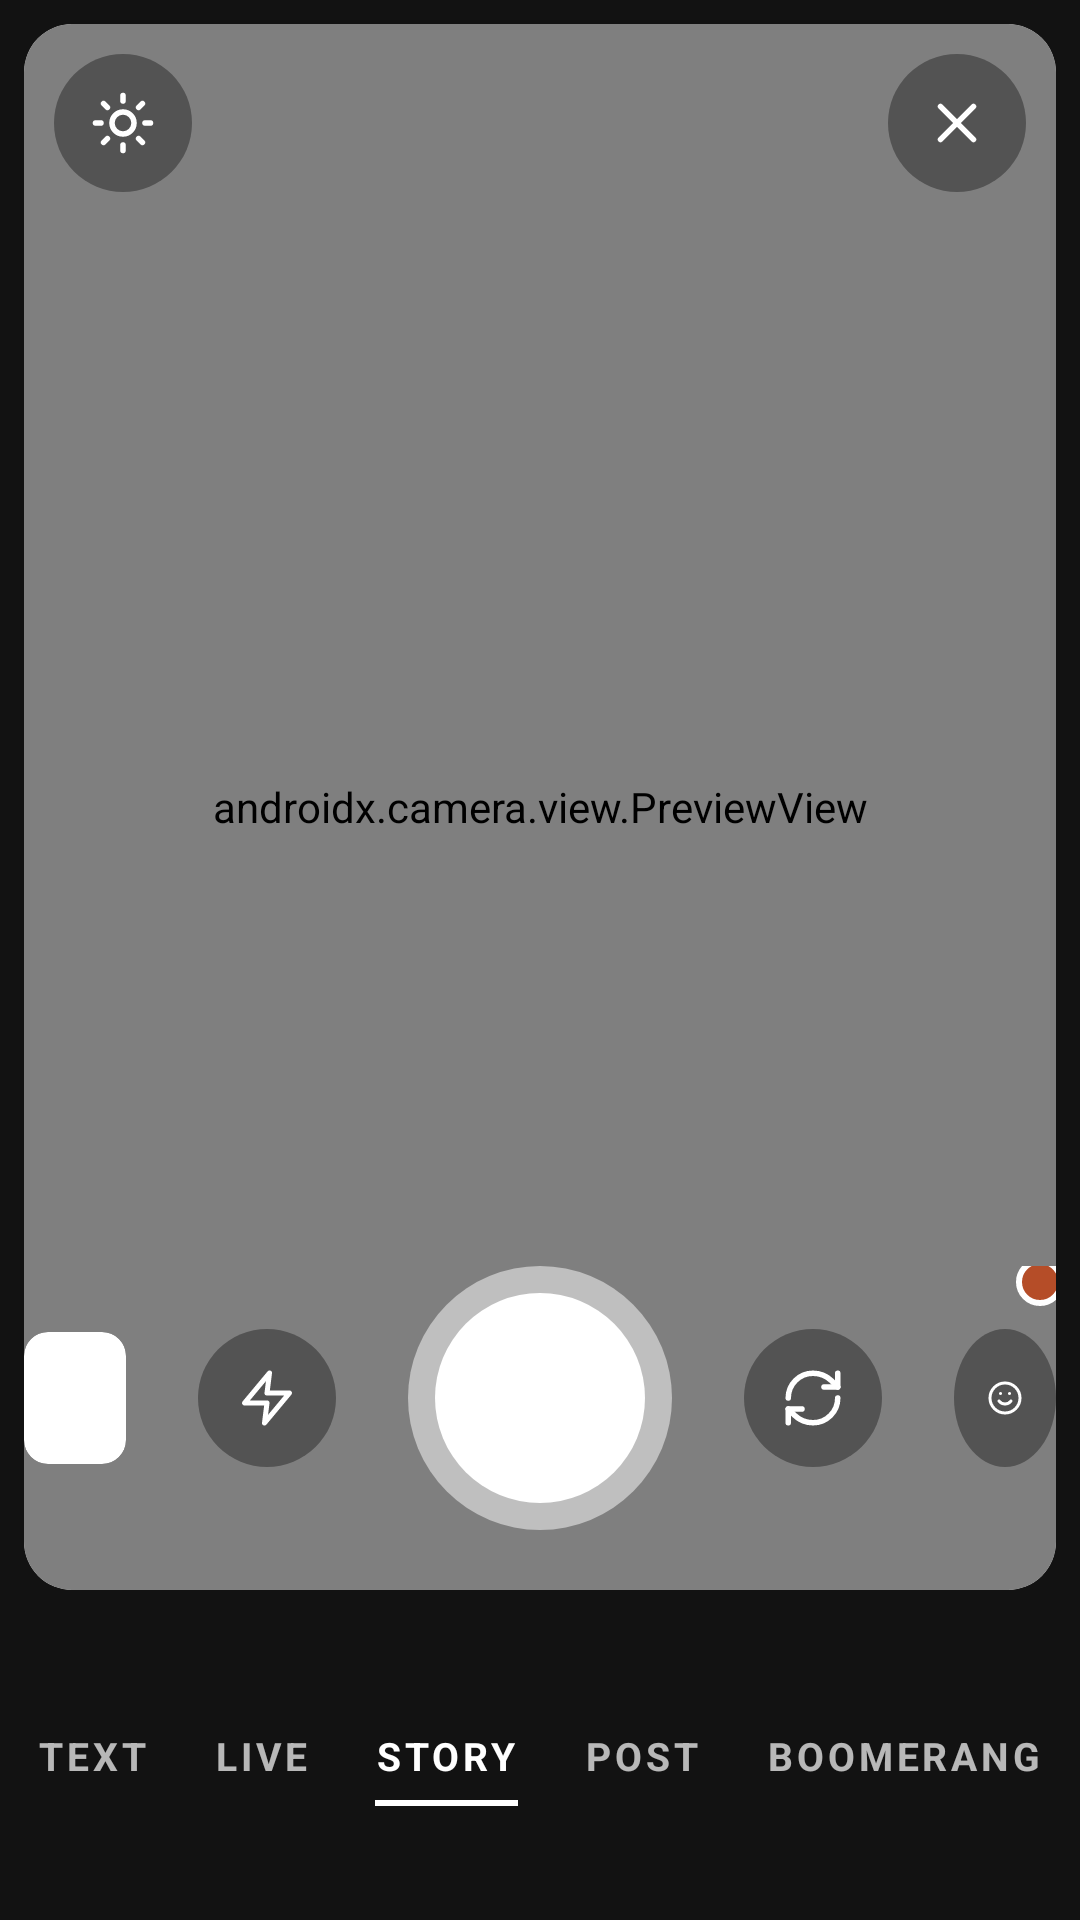

Named icons in this screenshot (1080px x 1920px) and their bounding boxes, [x1, y1, x2, y2]:
close icon: [888, 54, 1026, 192]
emoji icon: [954, 1329, 1056, 1467]
flash icon: [198, 1329, 336, 1467]
flip camera: [744, 1329, 882, 1467]
shutter button: [408, 1266, 672, 1530]
